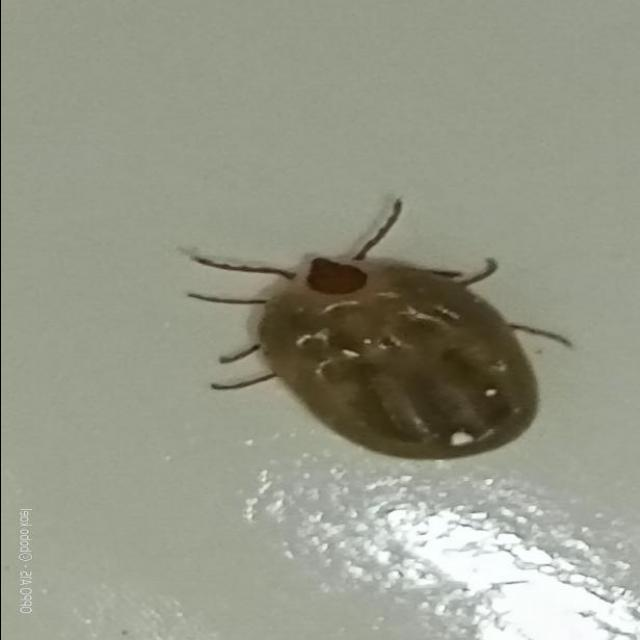Rhipicephalus Sanguineus-F-Fed: (176, 198, 574, 461)
